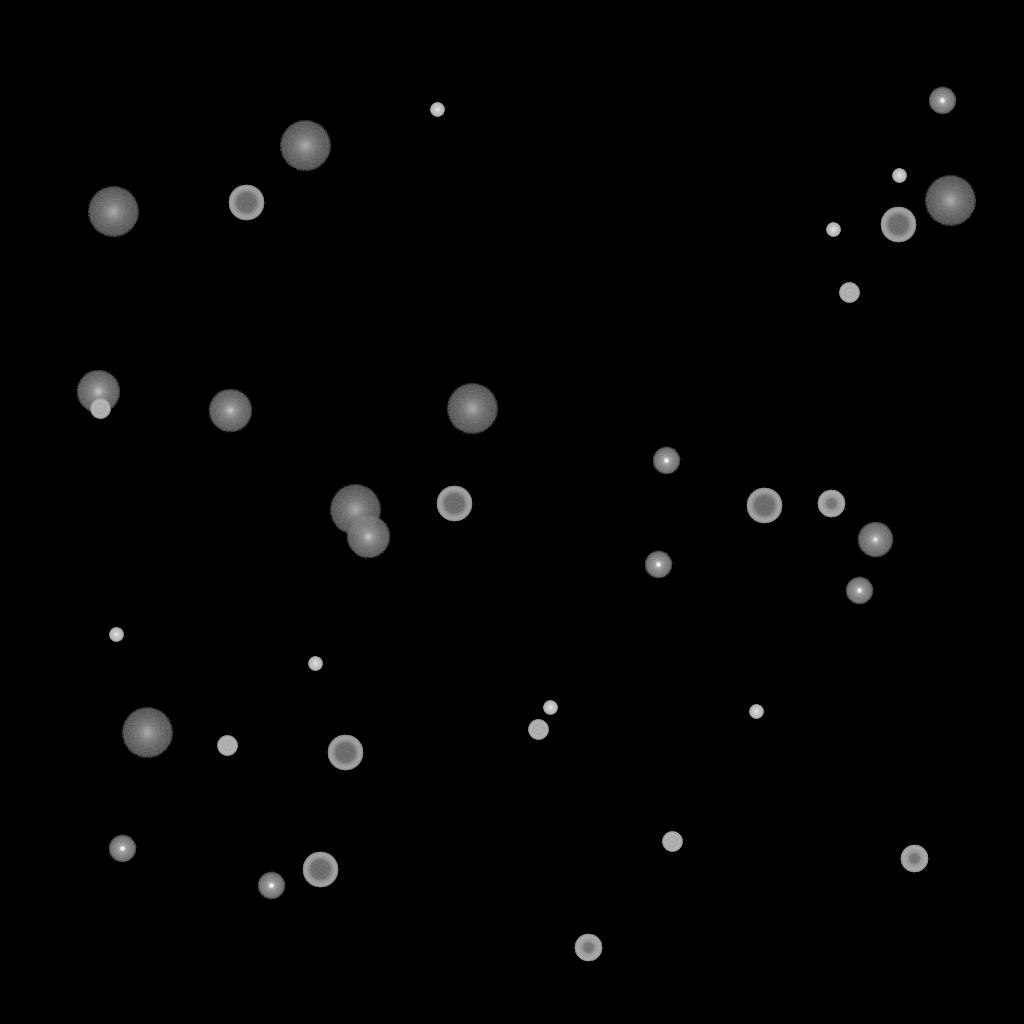depth:-10: (644, 551, 672, 579), (108, 835, 136, 863), (257, 872, 285, 900), (928, 87, 956, 115), (845, 577, 873, 605), (652, 447, 680, 475)
depth:-30: (892, 169, 906, 183), (430, 103, 444, 117), (543, 701, 557, 715), (308, 657, 322, 671), (109, 628, 123, 642), (826, 223, 840, 237), (749, 705, 763, 719)
depth:-40: (839, 283, 859, 303), (90, 399, 110, 419), (217, 736, 237, 756), (662, 832, 682, 852), (528, 720, 548, 740)
depth:-50: (900, 845, 928, 873), (574, 934, 602, 962), (817, 490, 845, 518)
depth:-60: (880, 207, 916, 243), (746, 488, 782, 524), (327, 735, 363, 771), (436, 486, 472, 522), (228, 185, 264, 221), (302, 852, 338, 888)
depth:0: (857, 522, 893, 558)
depth:10: (76, 370, 120, 414), (208, 389, 252, 433), (346, 515, 390, 559)
depth:20: (446, 384, 498, 434), (279, 121, 331, 171), (121, 708, 173, 758), (87, 187, 139, 237), (924, 176, 976, 226), (329, 485, 381, 535)
